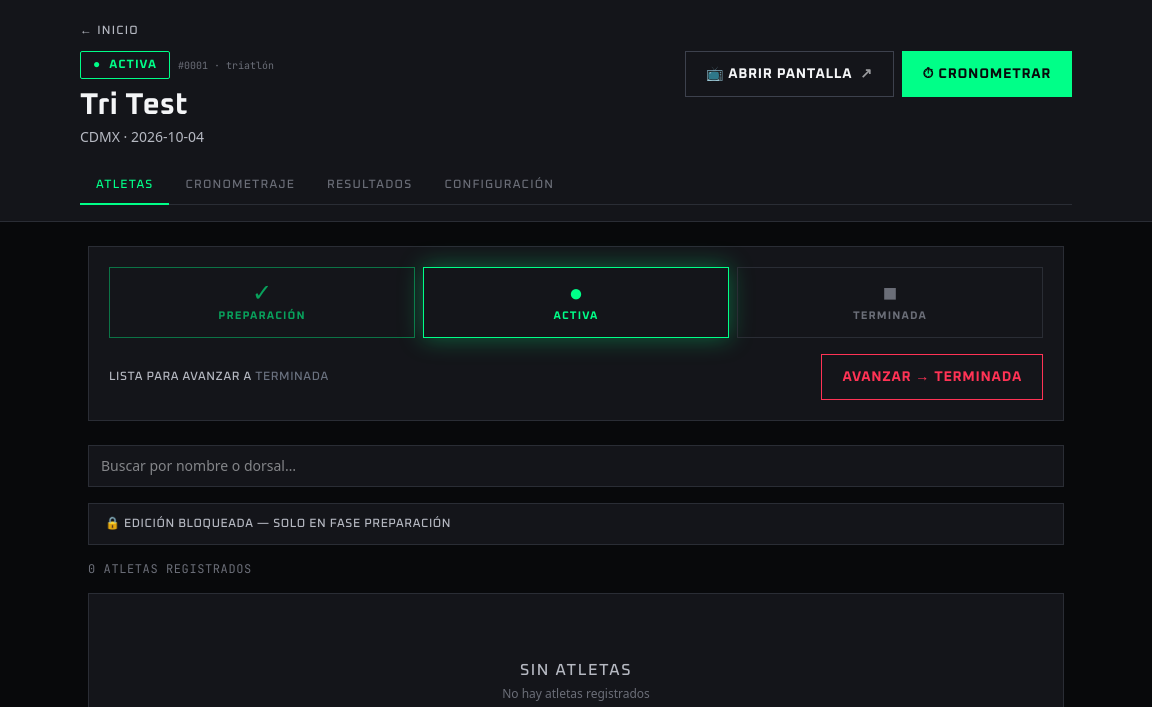
Test: DetalleEvento — distancias en Configuración › locks distances once the race is active
Click the button "Configuración": (499, 186) [428,167,570,205]
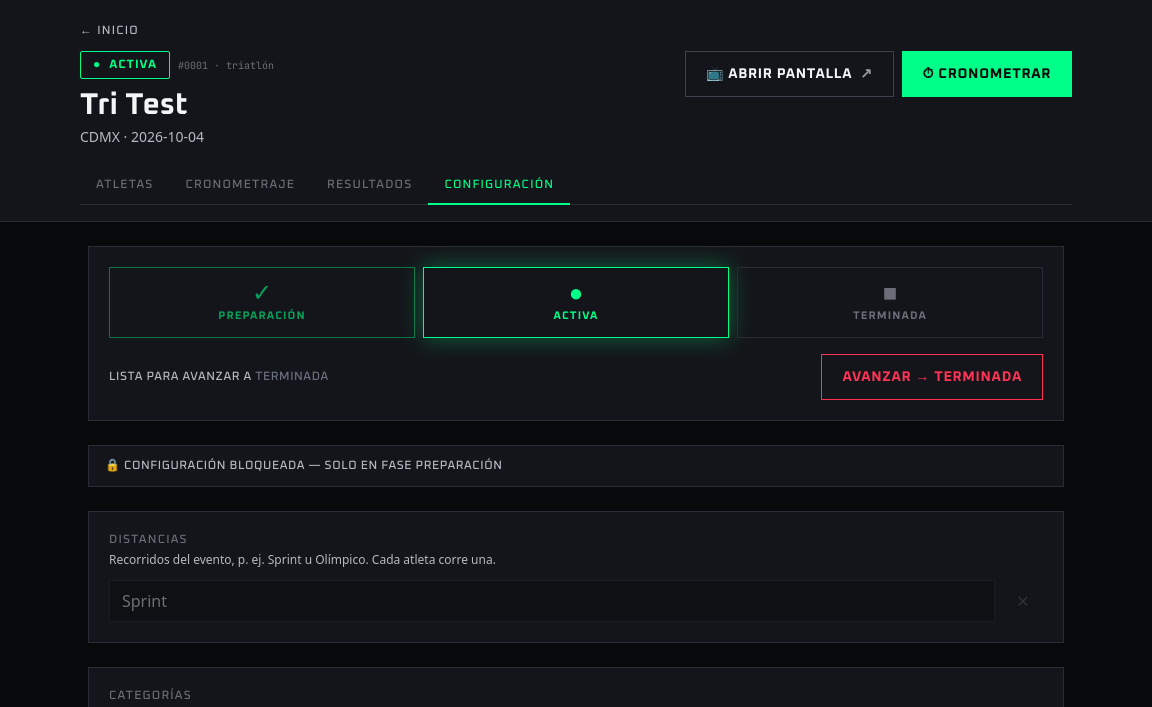
Check: the field named "Distancia 1" is disabled, box [109,580,995,622]
